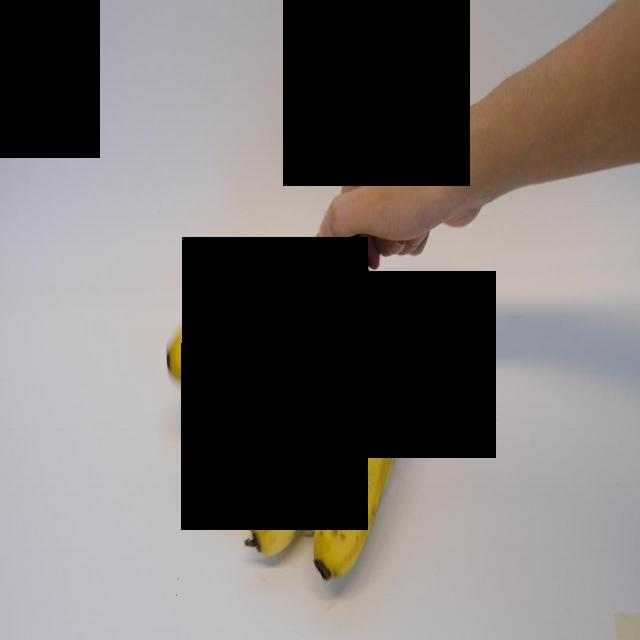banana: (186, 279, 332, 489), (246, 300, 351, 568), (162, 225, 312, 403), (316, 280, 394, 594)
